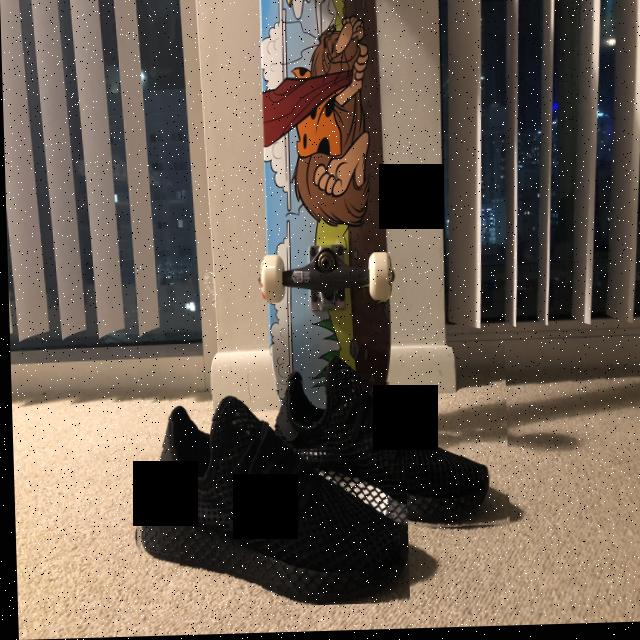shoe: (124, 374, 406, 611), (250, 349, 507, 538)
